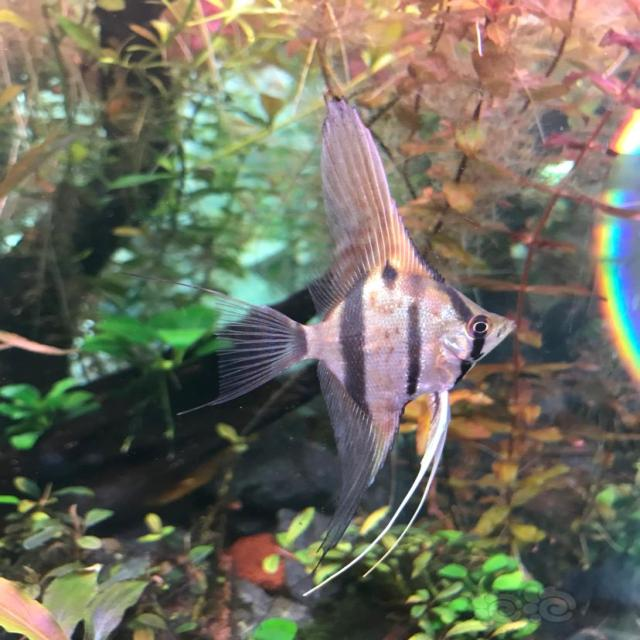AngelFish: (212, 83, 521, 592)
